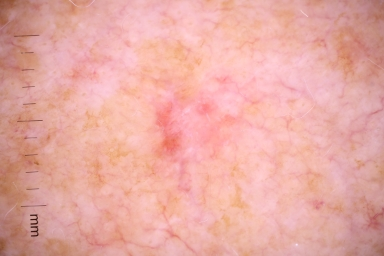melanoma: (156, 104, 180, 157), (199, 100, 219, 115)
